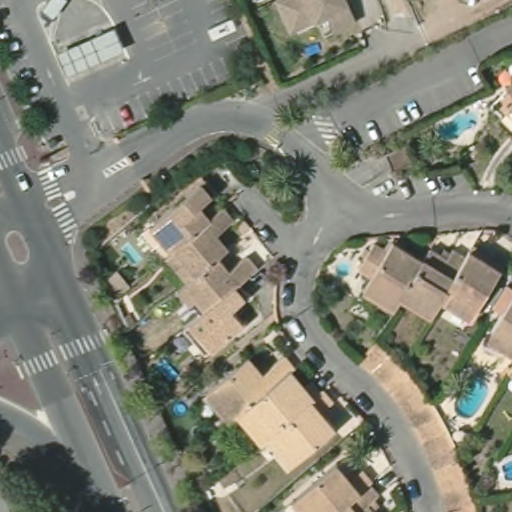pool: (455, 375, 488, 421), (438, 109, 478, 143), (151, 355, 181, 388), (120, 240, 147, 267), (330, 254, 357, 280), (499, 454, 512, 487), (169, 398, 188, 415)
